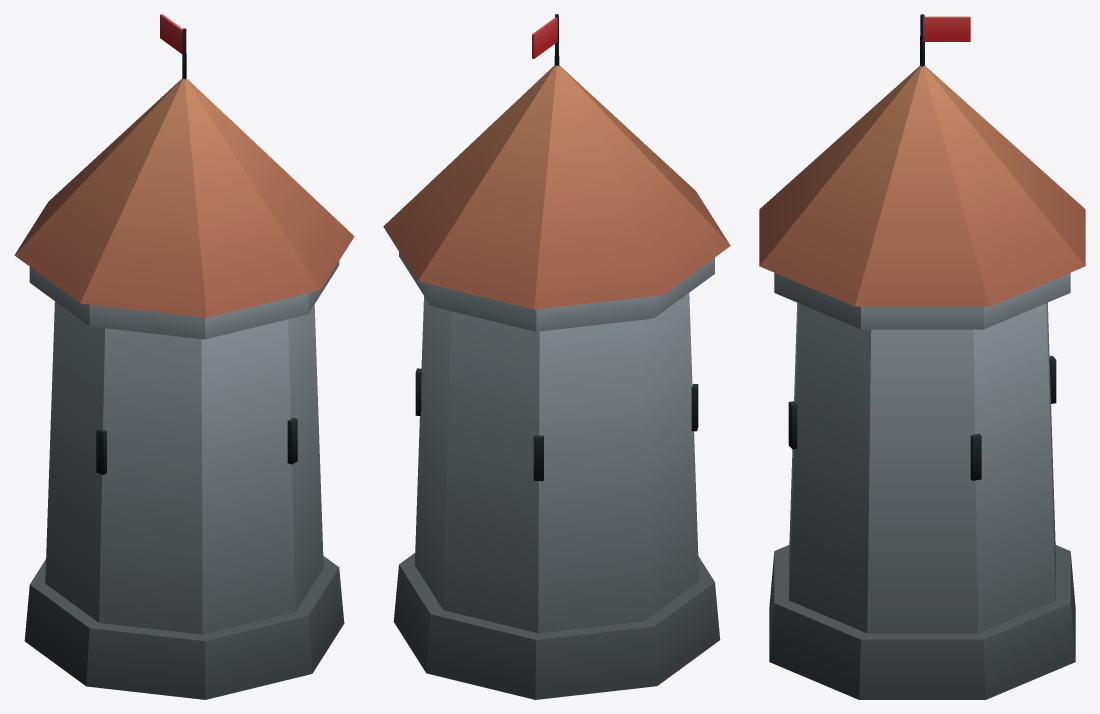
The model's file is city_tower.glb.
The picture shows the model from 3 angles, left to right: view 1: azimuth 30°, elevation 25°; view 2: azimuth 150°, elevation 25°; view 3: azimuth 270°, elevation 25°; orthographic projection. The views are drawn at different scales.
Visible parts, largest first — view 1: city_tower; view 2: city_tower; view 3: city_tower.
Part boxes in pixels (box(x1,y1,x2,y2)): city_tower: box(14, 14, 354, 699); city_tower: box(383, 14, 730, 699); city_tower: box(759, 14, 1085, 699).
Bounding box in the file's own units: 6.1 × 12.8 × 6.1.
Materials: 1 (1 with a texture image).
